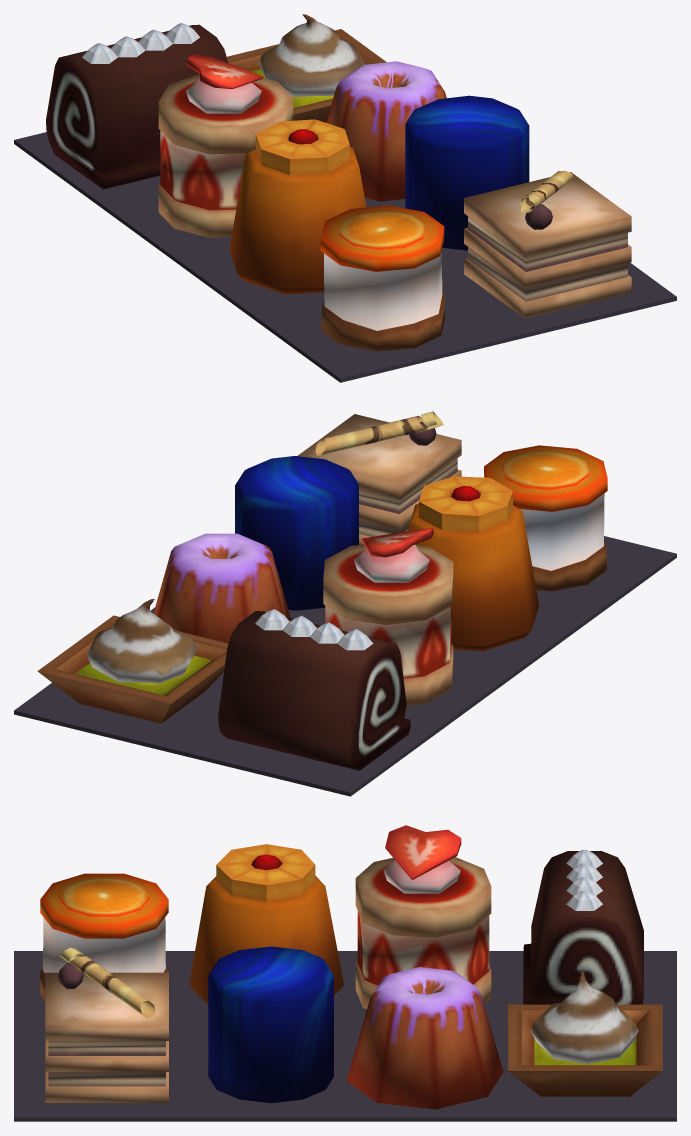
Rendered from low-poly-dessert-platter-e2315d.glb.
3 renders of one model, top to bottom at view 1: azimuth 30°, elevation 25°; view 2: azimuth 150°, elevation 25°; view 3: azimuth 270°, elevation 25°, orthographic.
Visible parts, largest first — view 1: PropMesh; view 2: PropMesh; view 3: PropMesh.
Part boxes in pixels (<box>): PropMesh: <box>14,14,676,382</box>; PropMesh: <box>14,411,676,796</box>; PropMesh: <box>14,825,676,1121</box>.
Size of the model in its own units: 0.2738 by 0.12 by 0.46.
Materials: 15 (14 with a texture image).
